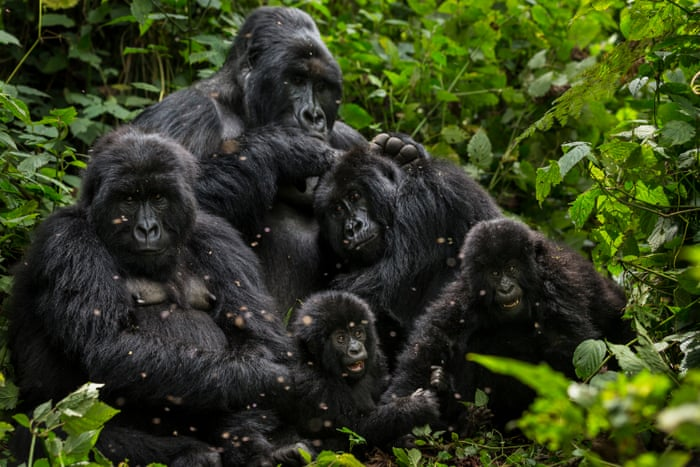Gorilla: (25, 139, 279, 457), (163, 21, 356, 242), (448, 226, 613, 391), (327, 154, 475, 286), (298, 300, 392, 436)
